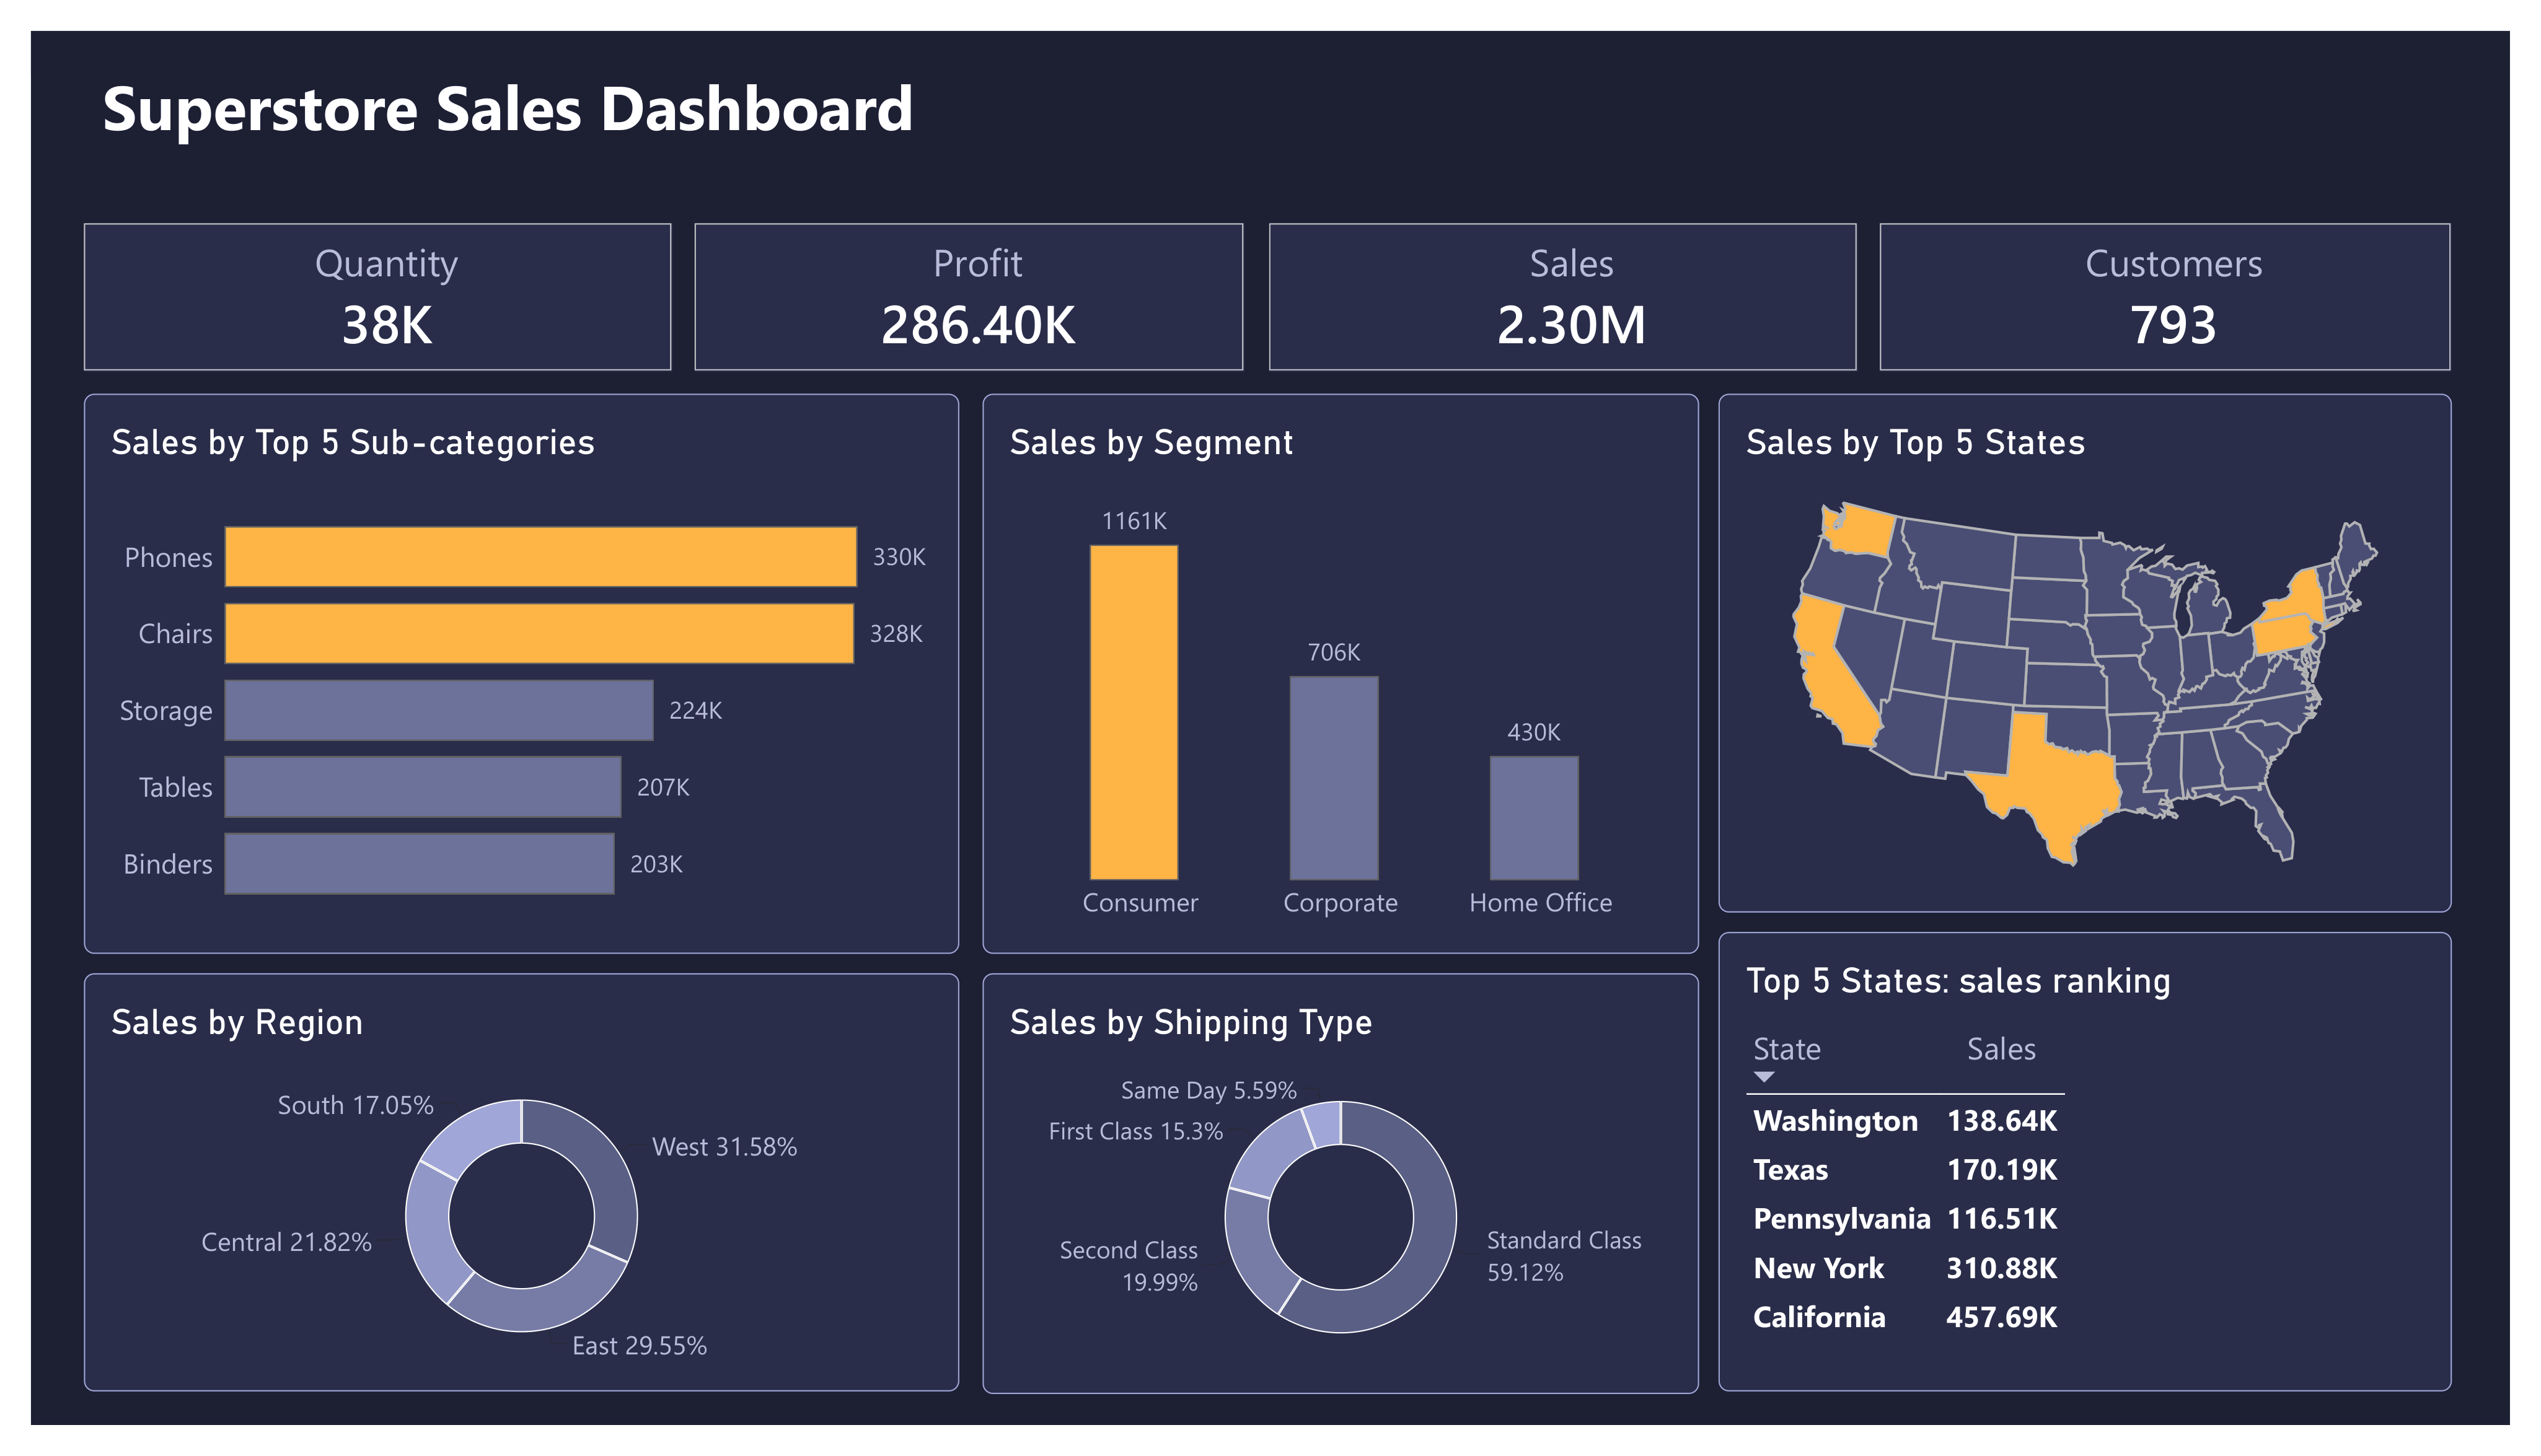

What the dashboard file says about the page in this screenshot:
{"tool":"powerbi","page":{"name":"Dashboard","canvas":[1920,1080],"ordinal":0},"visuals":[{"type":"clusteredBarChart","title":"Sales by Top 5 Sub-categories","fields":{"Category":["Sample - Superstore.Sub-Category"],"Y":["Sample - Superstore.Sales"]},"box":[41,280.8,678.2,434.2],"z":0},{"type":"cardVisual","fields":{"Data":["Sample - Superstore.Quantity"]},"box":[41,149,455.8,114.5],"z":1000},{"type":"cardVisual","fields":{"Data":["Sample - Superstore.Profit"]},"box":[514.1,149,425.5,114.5],"z":2000},{"type":"cardVisual","fields":{"Data":["Sample - Superstore.Sales"]},"box":[959,149,455.8,114.5],"z":3000},{"type":"donutChart","fields":{"Category":["Sample - Superstore.Ship Mode"],"Y":["Sample - Superstore.Sales"]},"box":[736.6,730.1,555.1,326.2],"z":4000},{"type":"columnChart","fields":{"Category":["Sample - Superstore.Segment"],"Y":["Sample - Superstore.Sales"]},"box":[736.6,280.8,555.1,434.2],"z":5000},{"type":"donutChart","fields":{"Category":["Sample - Superstore.Region"],"Y":["Sample - Superstore.Sales"]},"box":[41,730.1,678.2,324],"z":6000},{"type":"textbox","box":[41.7,25,733.3,75],"z":7000},{"type":"cardVisual","fields":{"Data":["Sample - Superstore.TotalCustomrs"]},"box":[1432.1,149,442.8,114.5],"z":8000},{"type":"shapeMap","title":"Sales by Top 5 States","fields":{"Category":["Sample - Superstore.State"]},"box":[1306.8,280.8,568.1,401.8],"z":10000},{"type":"tableEx","title":"Top 5 States: sales ranking","fields":{"Values":["Sample - Superstore.State","Sample - Superstore.Sales"]},"box":[1306.8,697.7,568.1,356.4],"z":11000}]}

Visuals, with their boxes in screenshot pixels (x1, y1, x2, y2):
"Sales by Top 5 Sub-categories" clusteredBarChart: x1=22, y1=367, x2=940, y2=954
cardVisual - Sample - Superstore.Quantity: x1=22, y1=188, x2=639, y2=343
cardVisual - Sample - Superstore.Profit: x1=663, y1=188, x2=1238, y2=343
cardVisual - Sample - Superstore.Sales: x1=1264, y1=188, x2=1882, y2=343
donutChart - Sample - Superstore.Ship Mode x Sample - Superstore.Sales: x1=964, y1=975, x2=1715, y2=1416
columnChart - Sample - Superstore.Segment x Sample - Superstore.Sales: x1=964, y1=367, x2=1715, y2=954
donutChart - Sample - Superstore.Region x Sample - Superstore.Sales: x1=22, y1=975, x2=940, y2=1413
textbox: x1=24, y1=20, x2=1016, y2=122
cardVisual - Sample - Superstore.TotalCustomrs: x1=1905, y1=188, x2=2504, y2=343
"Sales by Top 5 States" shapeMap: x1=1735, y1=367, x2=2504, y2=910
"Top 5 States: sales ranking" tableEx: x1=1735, y1=931, x2=2504, y2=1413
